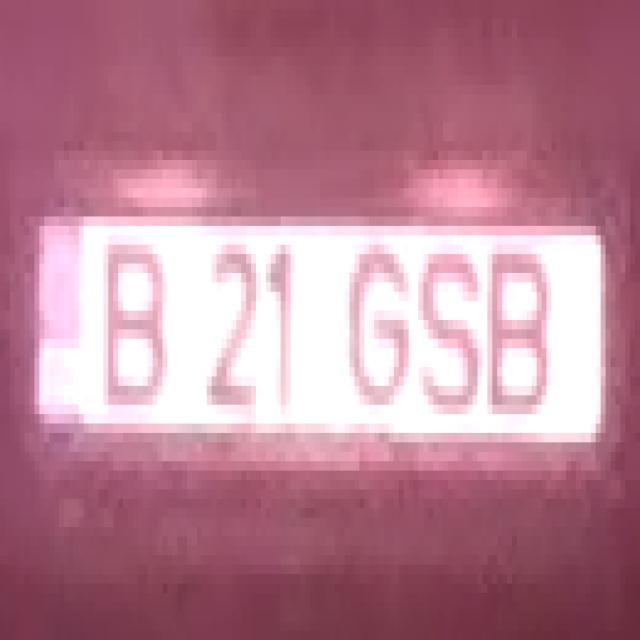Autre: (24, 206, 611, 458)
